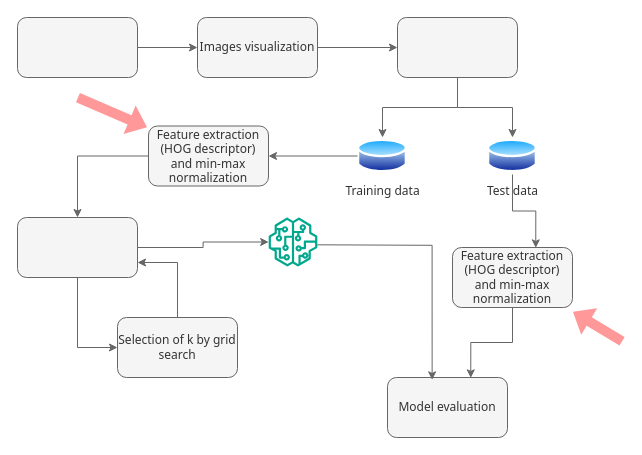
Image size: 642x455. Some labels were removed from this diagram. Here are the shapes that lost their labels. From the top down, the box of each, then its label:
(16, 16, 138, 78): Data acquisition
(396, 16, 518, 78): Images preprocessing
(16, 216, 138, 278): Model training (create kNN object)
(268, 217, 317, 266): Final kNN model
